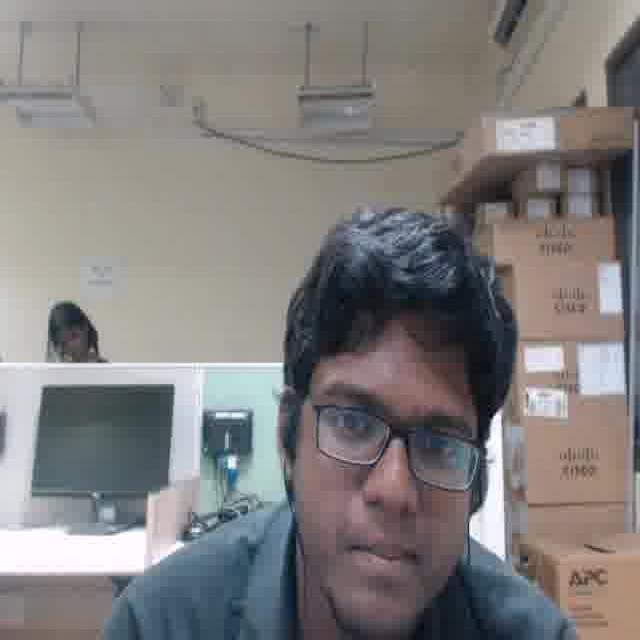Engaged: (292, 319, 474, 620)
